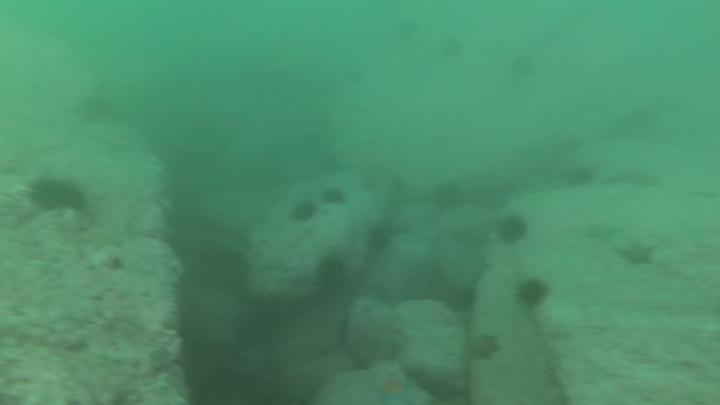echinus: (27, 175, 88, 215), (493, 213, 532, 249), (515, 275, 553, 310), (316, 254, 350, 288), (434, 180, 466, 214), (366, 222, 394, 252), (565, 165, 597, 191), (454, 283, 481, 313), (291, 200, 319, 227), (439, 35, 466, 61), (319, 185, 348, 209)
starfish: (615, 237, 664, 272), (371, 372, 419, 405), (469, 333, 501, 366)
